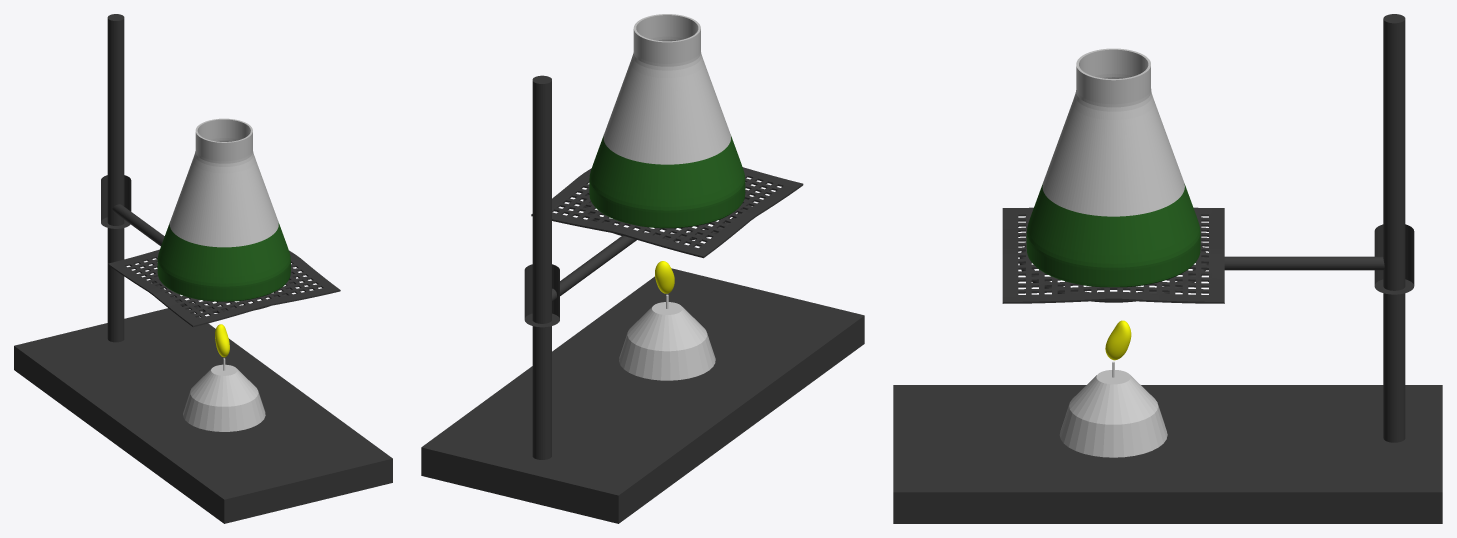
Rendered from fire_tube.glb.
3 views of the same model, side by side, from view 1: azimuth 30°, elevation 25°; view 2: azimuth 150°, elevation 25°; view 3: azimuth 270°, elevation 25° (orthographic). The views are drawn at different scales.
Visible parts, largest first — view 1: Cube, Cylinder, Cylinder.001, Plane.001, Cylinder.004, Circle.002, Cylinder.002; view 2: Cube, Cylinder, Cylinder.001, Plane.001, Cylinder.004, Cylinder.002, Circle.002, Sphere; view 3: Cube, Cylinder, Cylinder.001, Plane.001, Cylinder.004, Cylinder.002, Circle.002, Sphere.
Part boxes in pixels (x1,y1,x2,y2): Cube: (14,308,392,523); Cylinder: (157,118,290,301); Cylinder.001: (107,14,124,342); Plane.001: (108,249,340,327); Cylinder.004: (183,364,265,431); Circle.002: (101,175,131,228); Cylinder.002: (112,204,164,246); Cube: (421,268,864,523); Cylinder: (589,14,745,228); Cylinder.001: (532,75,551,459); Plane.001: (531,167,803,258); Cylinder.004: (619,302,715,380); Cylinder.002: (552,235,636,301); Circle.002: (524,264,559,327); Sphere: (655,261,674,293); Cube: (893,385,1442,523); Cylinder: (1026,48,1200,287); Cylinder.001: (1383,14,1405,442); Plane.001: (1002,207,1224,303); Cylinder.004: (1059,370,1167,457); Cylinder.002: (1206,256,1384,270); Circle.002: (1374,224,1414,294); Sphere: (1105,320,1131,360).
Size of the model in its own units: 0.4852 by 0.9535 by 1.05.
